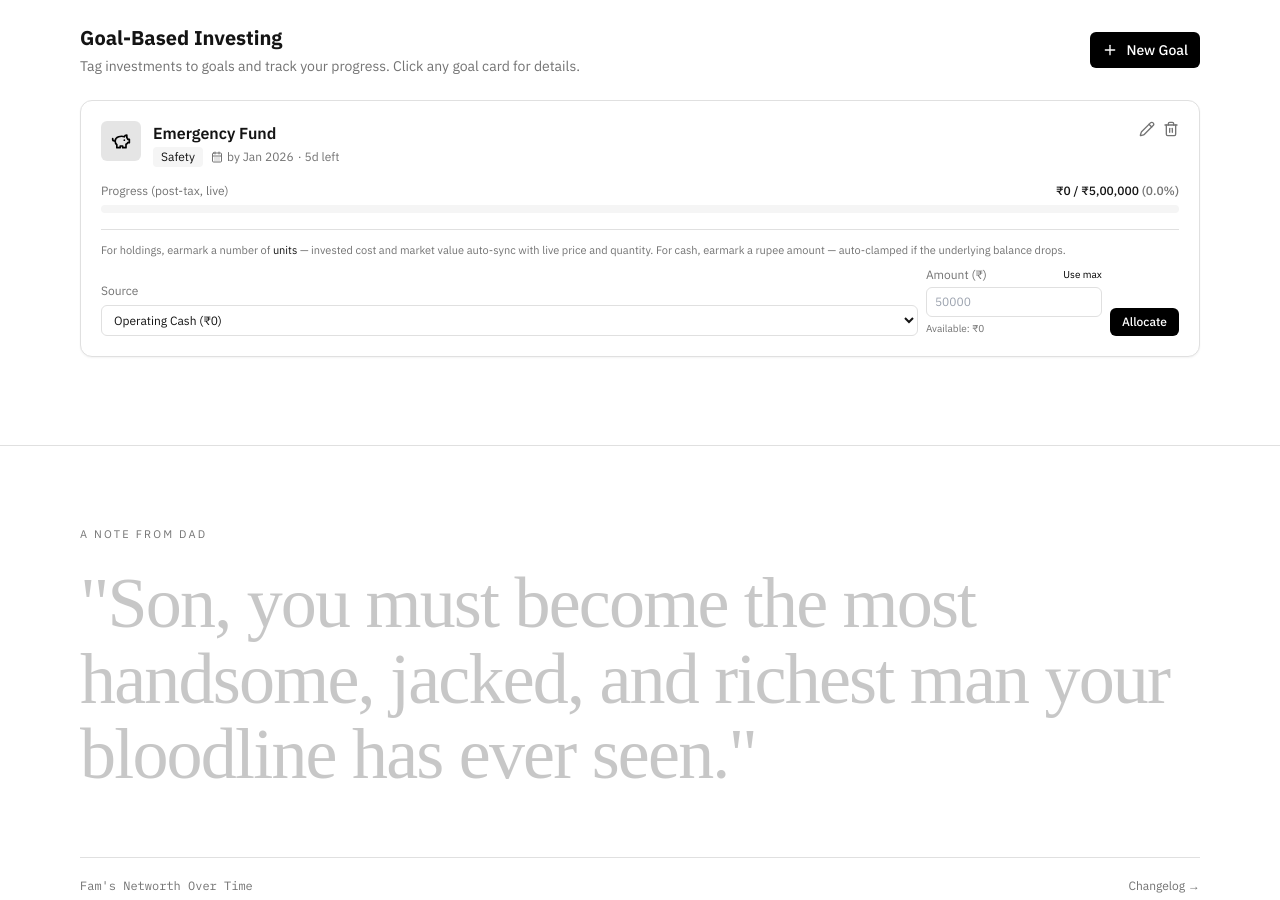
Test: GoalTrack — target_date DATE-boundary handling › counts "Days Left" the same way in the goal detail dialog
Click the heading "Emergency Fund": [215, 133] box [153, 123, 276, 143]
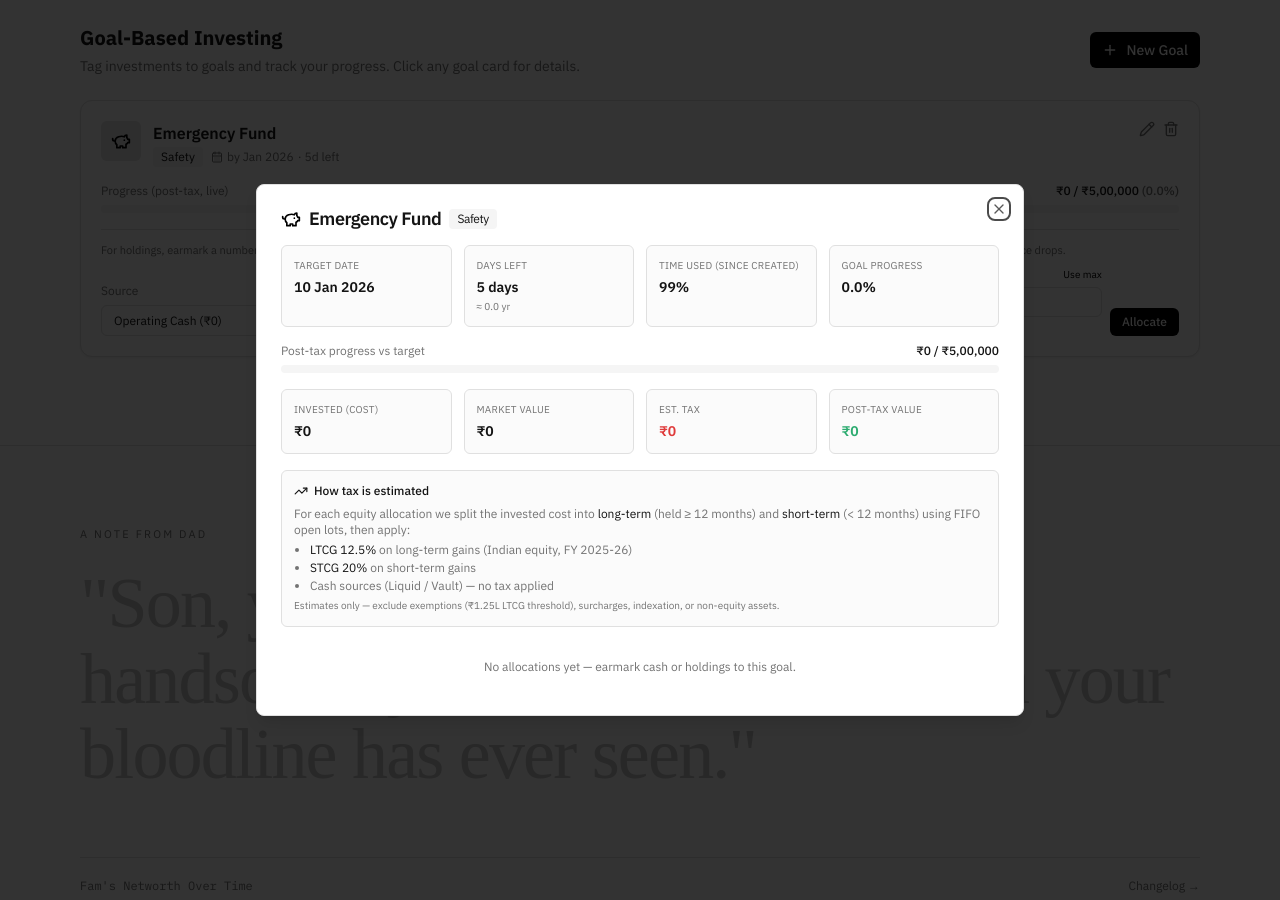
expect the text "Days Left" is shown: met, box [476, 259, 527, 272]
expect the text "5 days" is shown: met, box [476, 278, 518, 296]
